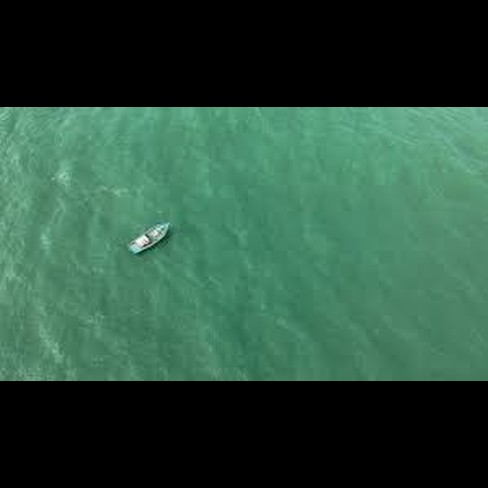boat: (122, 218, 176, 256)
